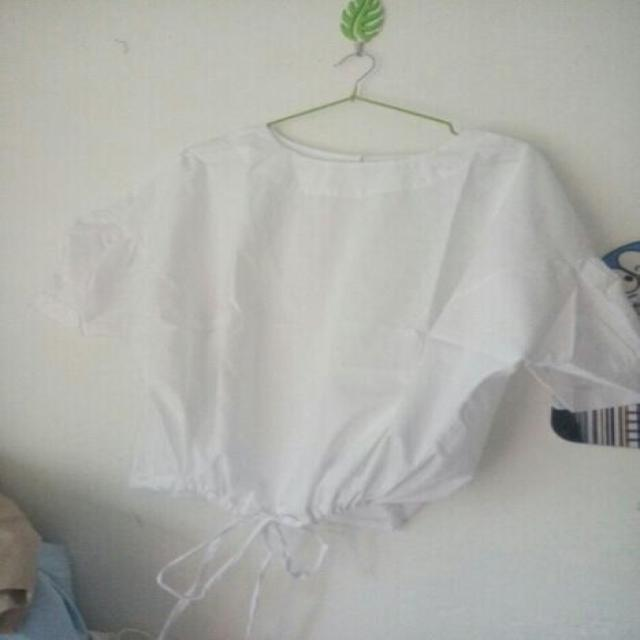short-sleeve-top: (72, 120, 638, 560)
